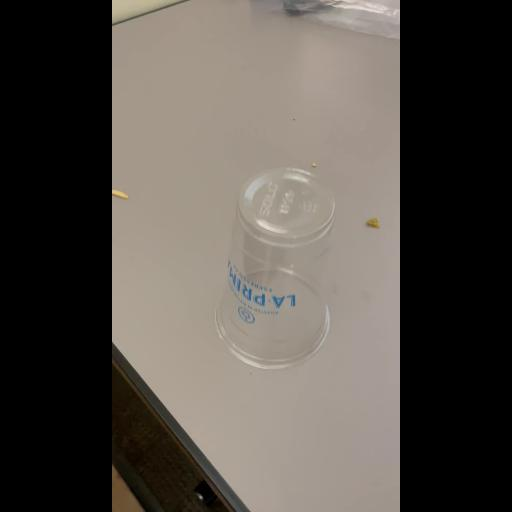lp_plastic_cup: (215, 170, 335, 366)
